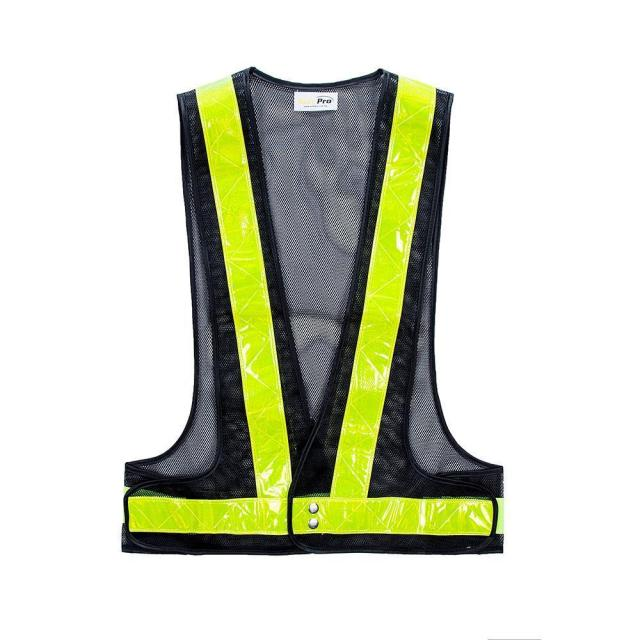Vest: (118, 63, 506, 562)
